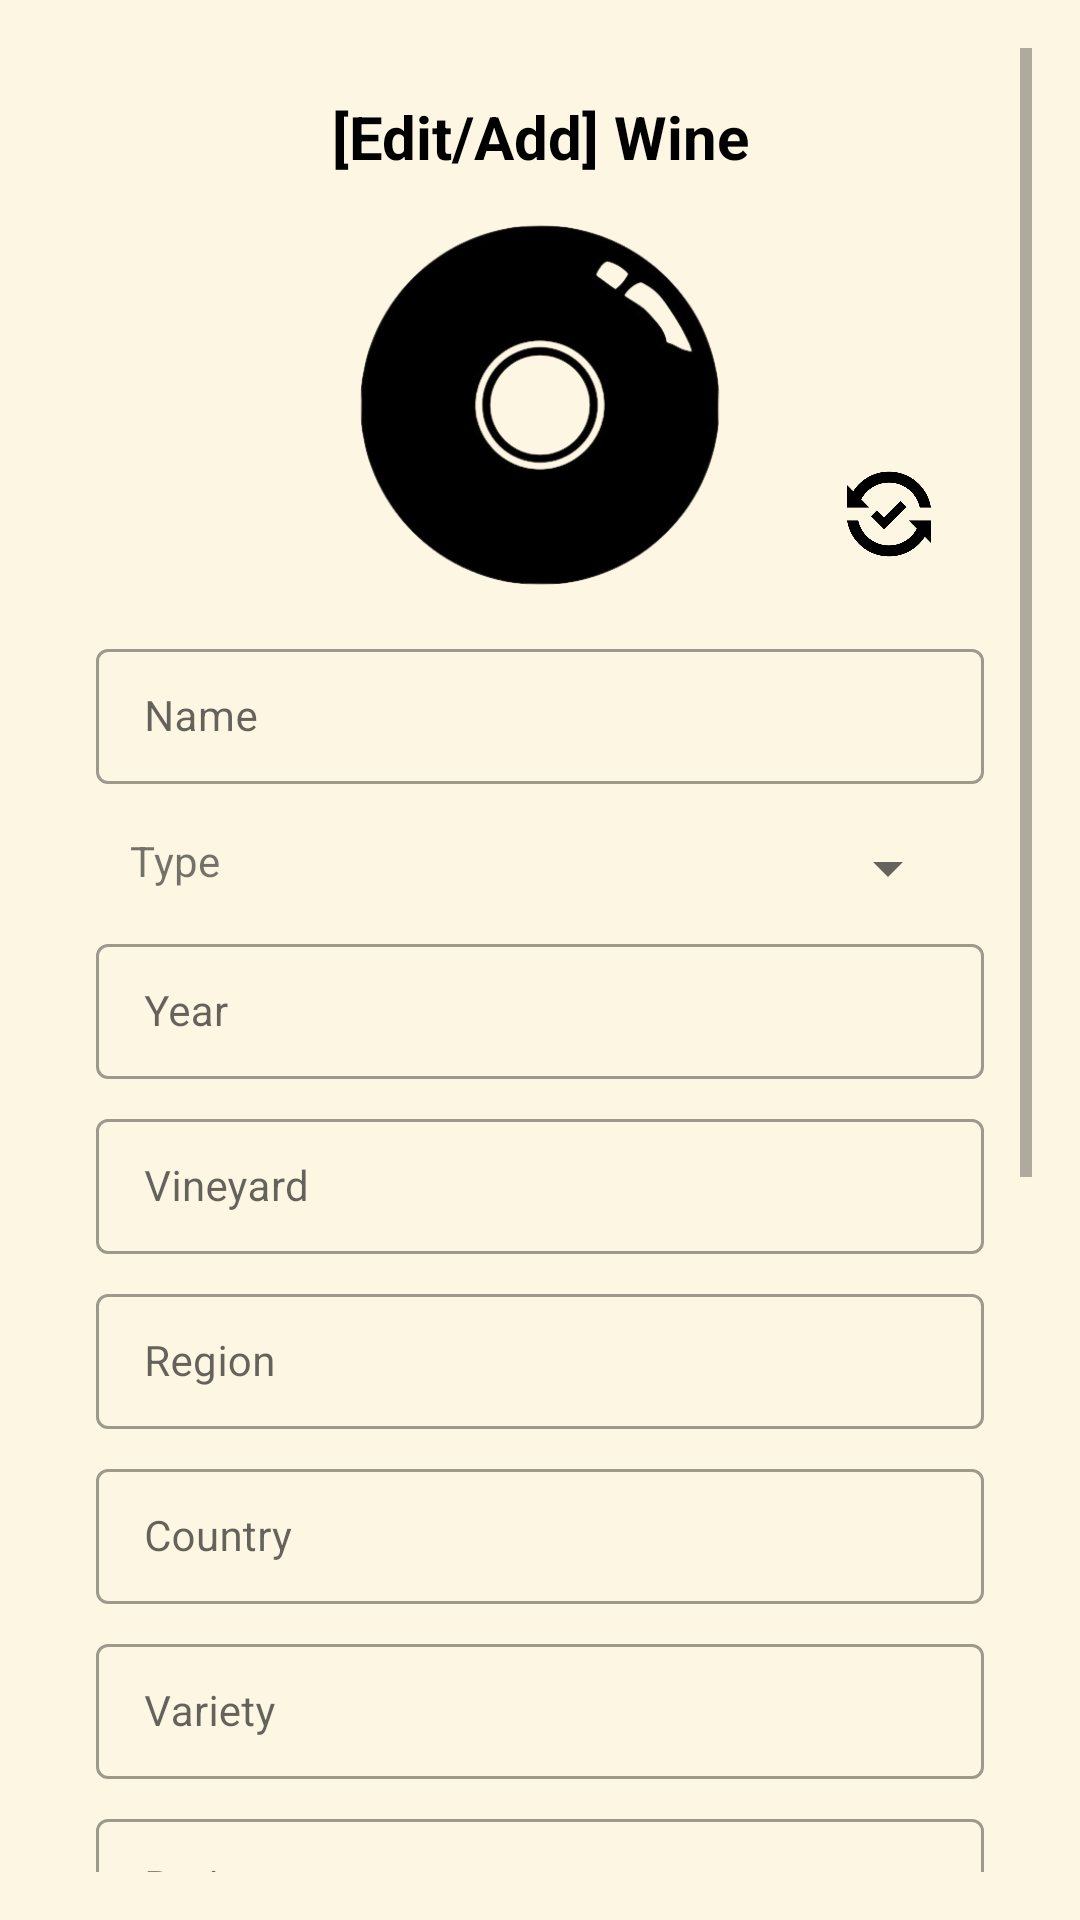

Where icons sit on this 1080px×1920px app screen, as (x1, y1, x2, y2):
revert: (847, 471, 931, 557)
